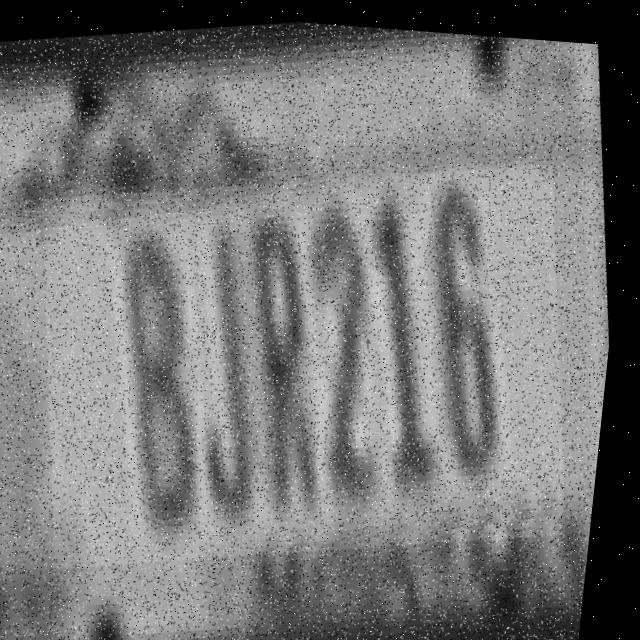LicensePlate: (16, 127, 606, 596)
